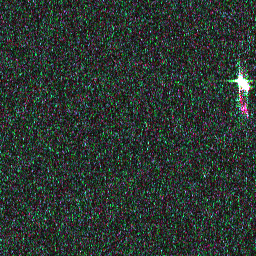ship: (234, 71, 251, 92)
